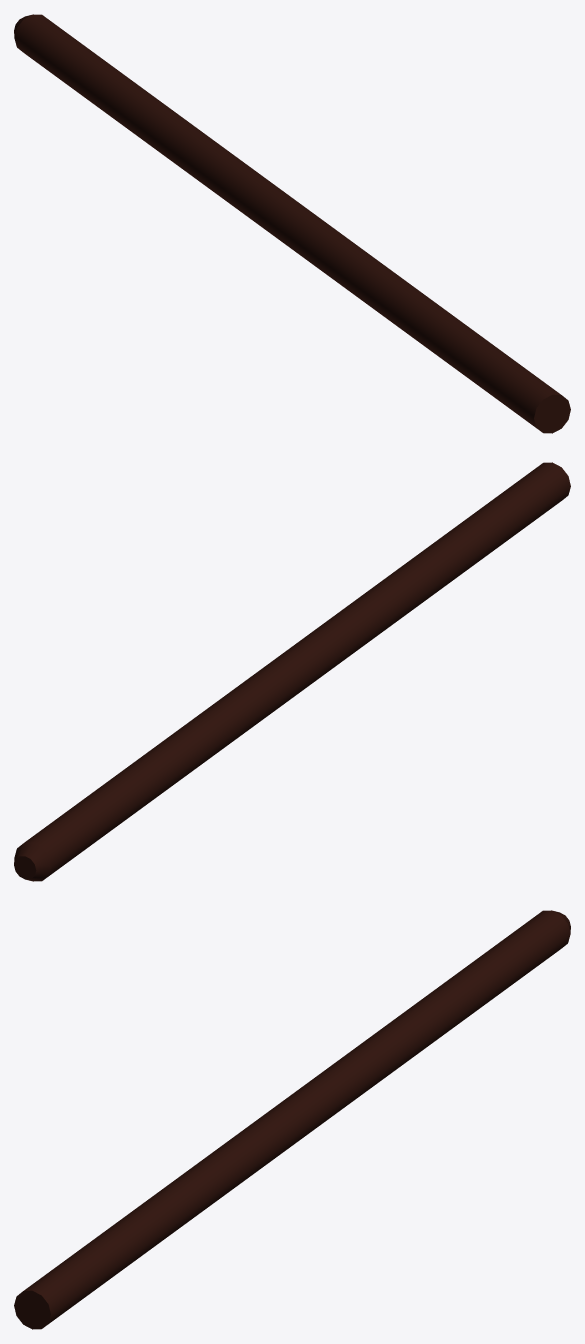
Rendered from BateauPart_Part_6.fbx.
3 views of the same model, one above another, from view 1: azimuth 30°, elevation 25°; view 2: azimuth 150°, elevation 25°; view 3: azimuth 330°, elevation 25° (orthographic).
Parts seen in each view (by area): view 1: BateauPart_Part_6; view 2: BateauPart_Part_6; view 3: BateauPart_Part_6.
Part boxes in pixels (x1=…): BateauPart_Part_6: x1=14, y1=14, x2=570, y2=433; BateauPart_Part_6: x1=14, y1=462, x2=570, y2=881; BateauPart_Part_6: x1=14, y1=910, x2=570, y2=1329.
Bounding box in the file's own units: 3.04 × 3.04 × 74.97.
